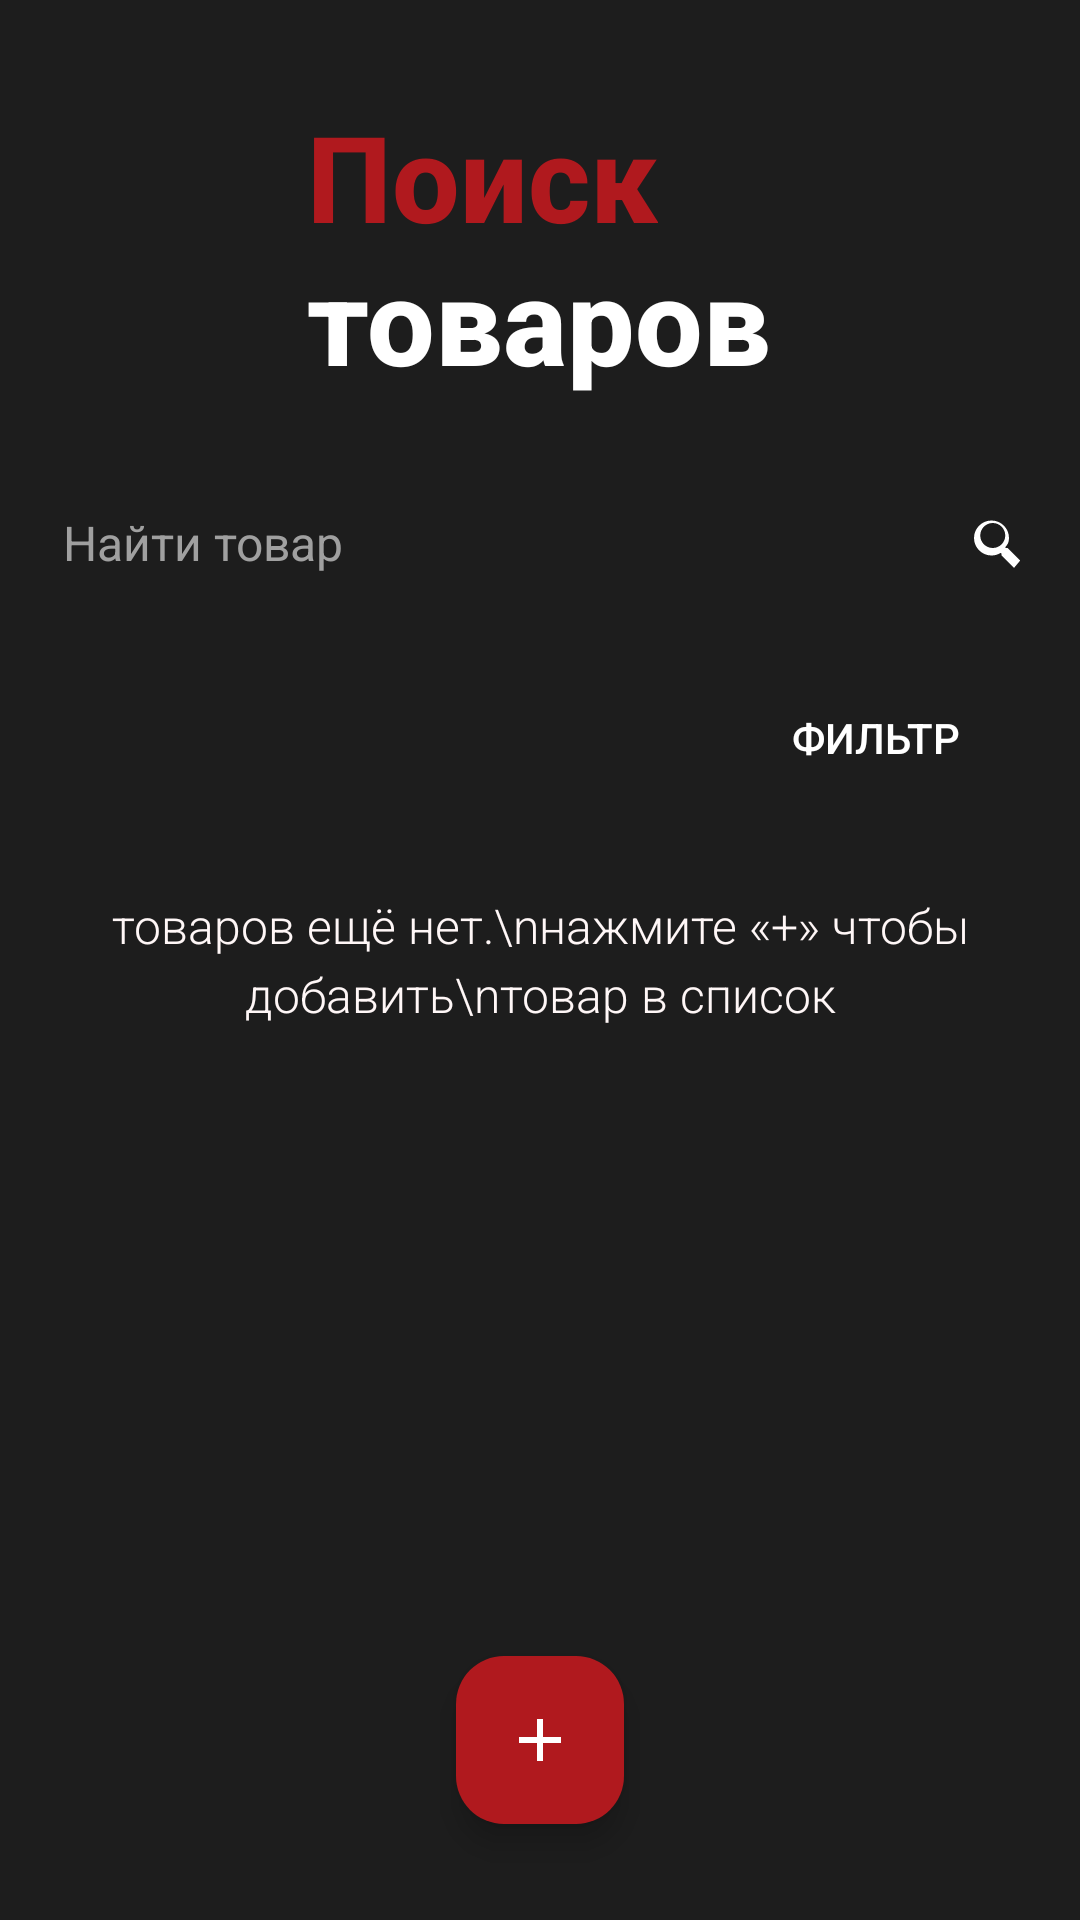

Named icons in this screenshot (1080px x 1920px) and their bounding boxes, [x1,y1,x2,y2]:
Добавить товар: [456,1656,624,1824]
Поиск: [974,520,1020,568]
